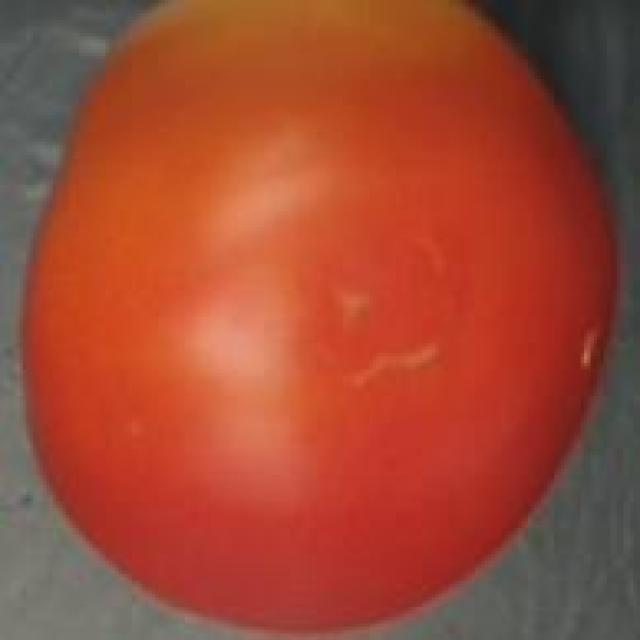ripe tomato: (20, 0, 630, 640)
